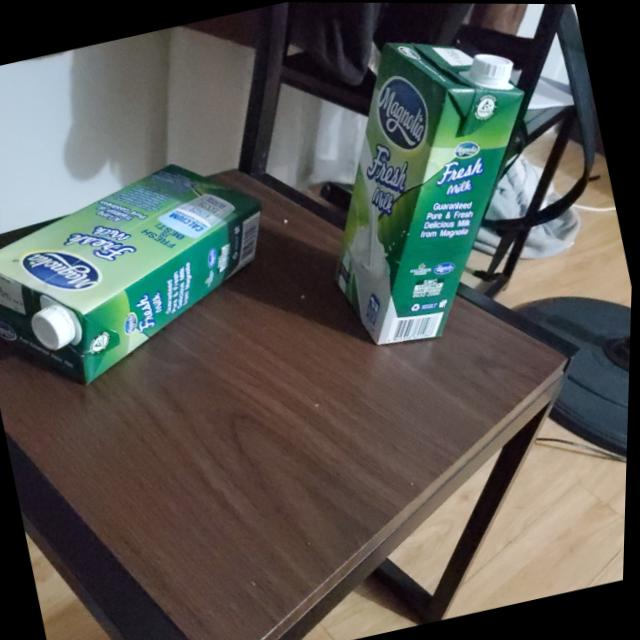milk: (283, 15, 580, 364), (0, 141, 292, 401)
